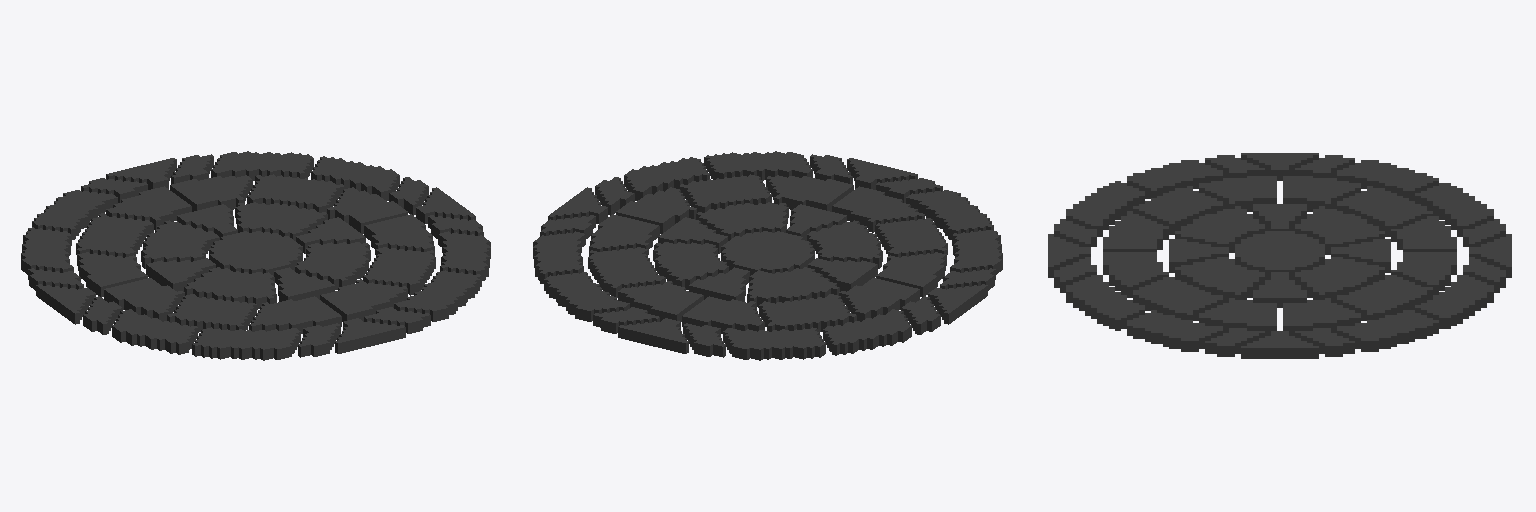
3 renders of one model, left to right at view 1: azimuth 30°, elevation 25°; view 2: azimuth 150°, elevation 25°; view 3: azimuth 270°, elevation 25°, orthographic.
Parts seen in each view (by area): view 1: object 1; view 2: object 1; view 3: object 1.
Part boxes in pixels (bbox=[...]): object 1: bbox=[21, 151, 490, 360]; object 1: bbox=[533, 151, 1002, 360]; object 1: bbox=[1048, 153, 1511, 358].
Size of the model in its own units: 7.7 by 0.2 by 7.7.
Materials: 1 (1 with a texture image).